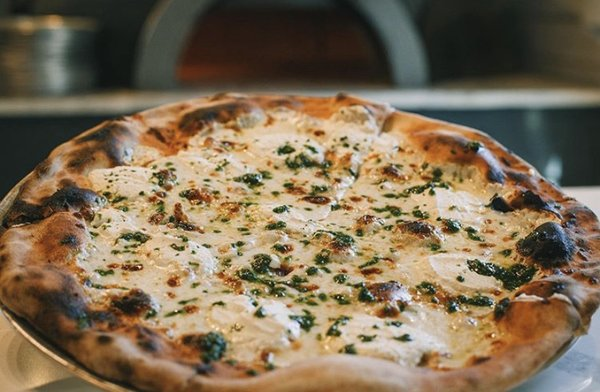pasta: (132, 1, 430, 94)
sandwich: (0, 92, 600, 385)
